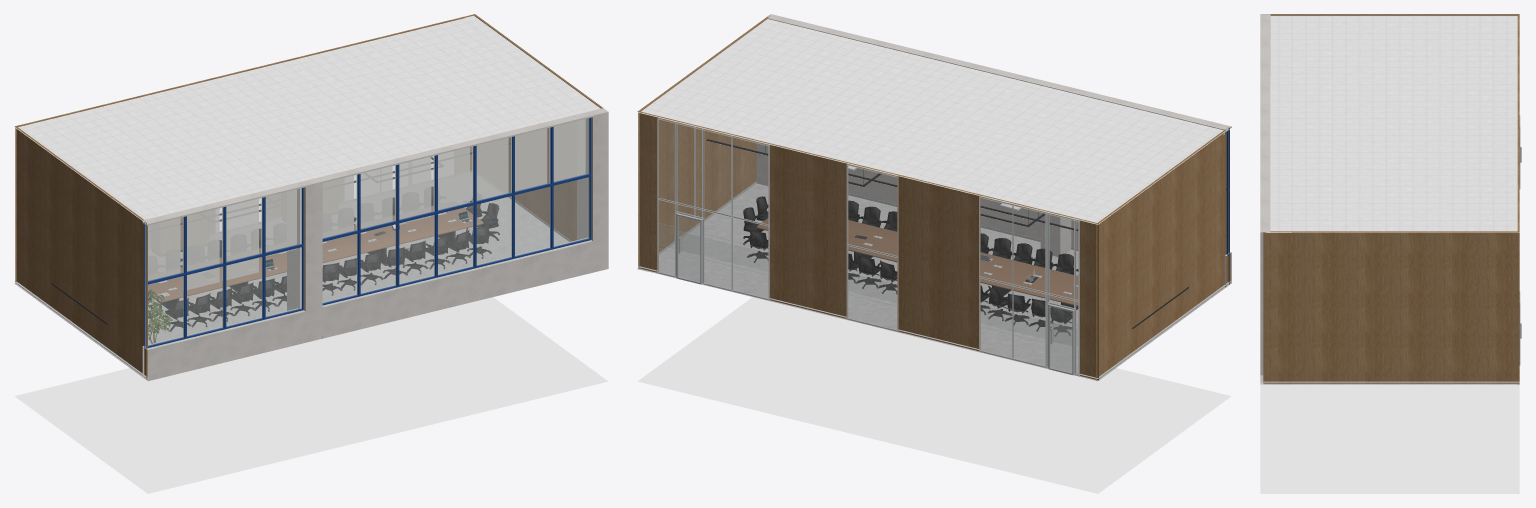
File: cda.glb
The picture shows the model from 3 angles, left to right: view 1: azimuth 30°, elevation 25°; view 2: azimuth 150°, elevation 25°; view 3: azimuth 270°, elevation 25°; orthographic projection. The views are drawn at different scales.
Parts seen in each view (by area): view 1: BAKE_statico, Vetri.001, BAKE_sedie, Pianta.009; view 2: BAKE_statico, Vetri.001, BAKE_sedie, Fasce satinate.001, Anta07, Anta06, Lampade lineari.001; view 3: BAKE_statico.
Boxes of the visible parts, bbox=[...] form: BAKE_statico: bbox=[14, 14, 608, 493]; Vetri.001: bbox=[145, 118, 589, 347]; BAKE_sedie: bbox=[165, 186, 499, 331]; Pianta.009: bbox=[148, 289, 172, 338]; BAKE_statico: bbox=[637, 14, 1231, 493]; Vetri.001: bbox=[658, 119, 1228, 375]; BAKE_sedie: bbox=[743, 196, 1078, 336]; Fasce satinate.001: bbox=[659, 223, 1077, 350]; Anta07: bbox=[676, 214, 701, 284]; Anta06: bbox=[1048, 304, 1073, 375]; Lampade lineari.001: bbox=[706, 139, 1078, 231]; BAKE_statico: bbox=[1260, 14, 1519, 493].
Size of the model in its own units: 15.41 by 8.62 by 7.8.
Materials: 47 (13 with a texture image).
